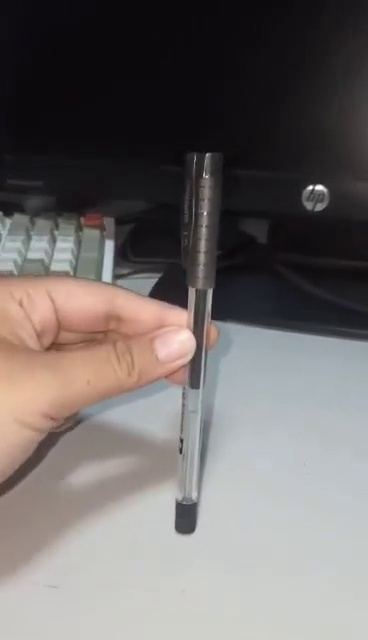ballpen: (174, 132, 226, 544)
hand: (1, 277, 219, 498)
